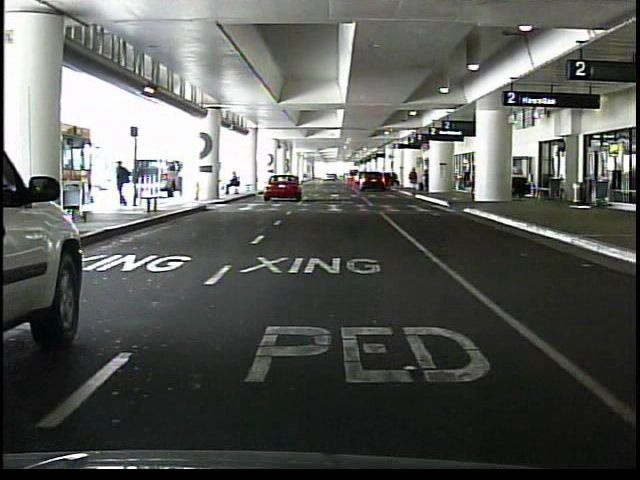person: (117, 161, 134, 207), (225, 171, 244, 195), (410, 165, 421, 193)
